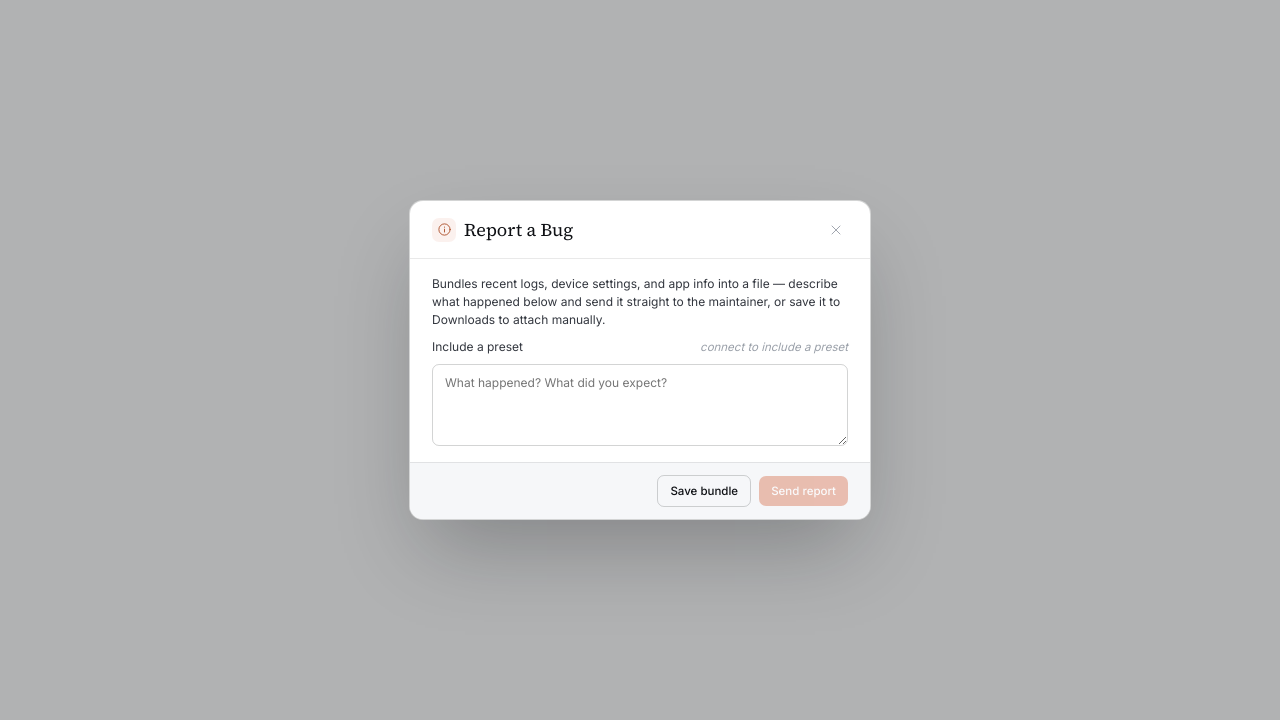
BugReportDialog › shows an inline error when the save fails
Step 1. Click the button "Save bundle" → x=704, y=491, box 657,475 -> 751,507
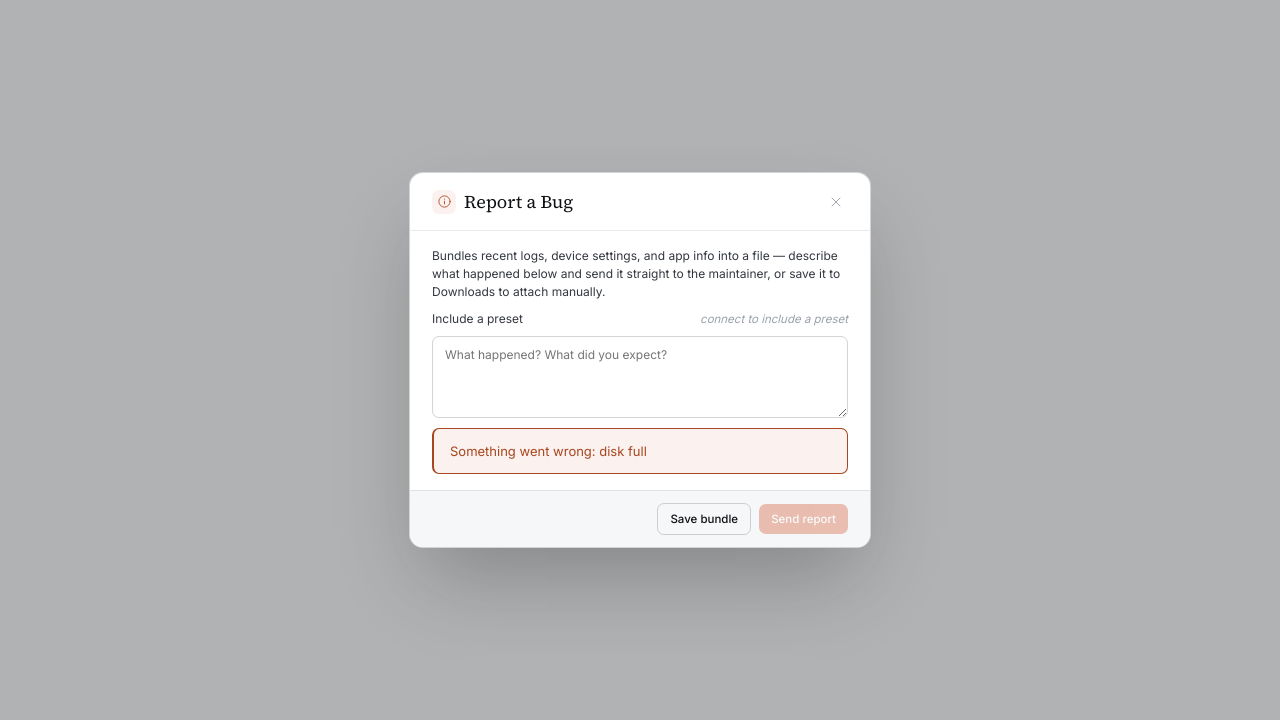
Expected: the message shows "disk full", 599,443 -> 647,459
